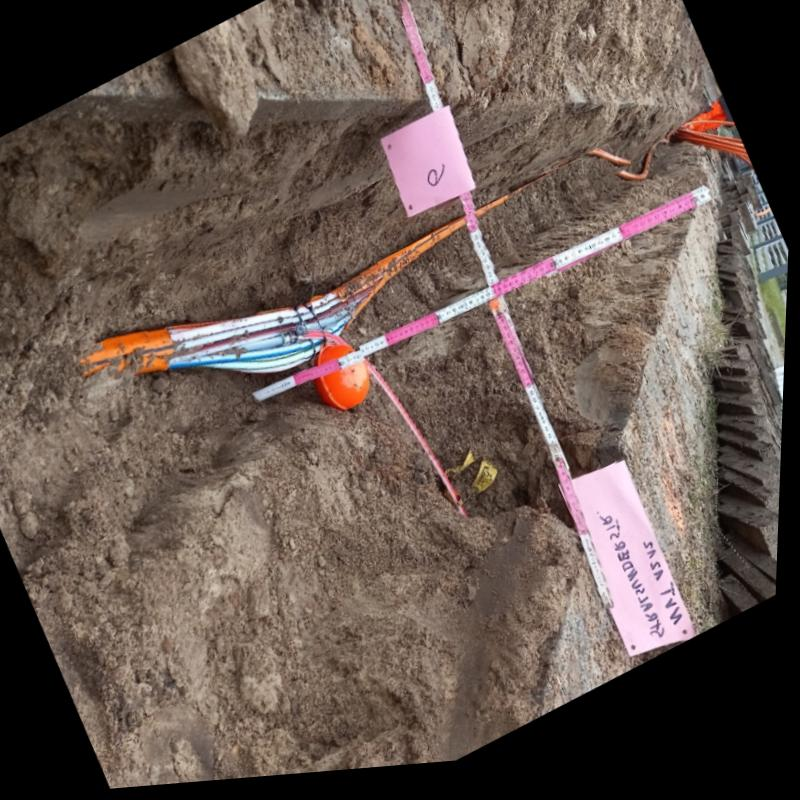Kugelmarker: (316, 349, 372, 415)
Orang-Speednetrohrchen: (319, 184, 547, 341), (91, 311, 326, 377), (586, 159, 634, 177)
